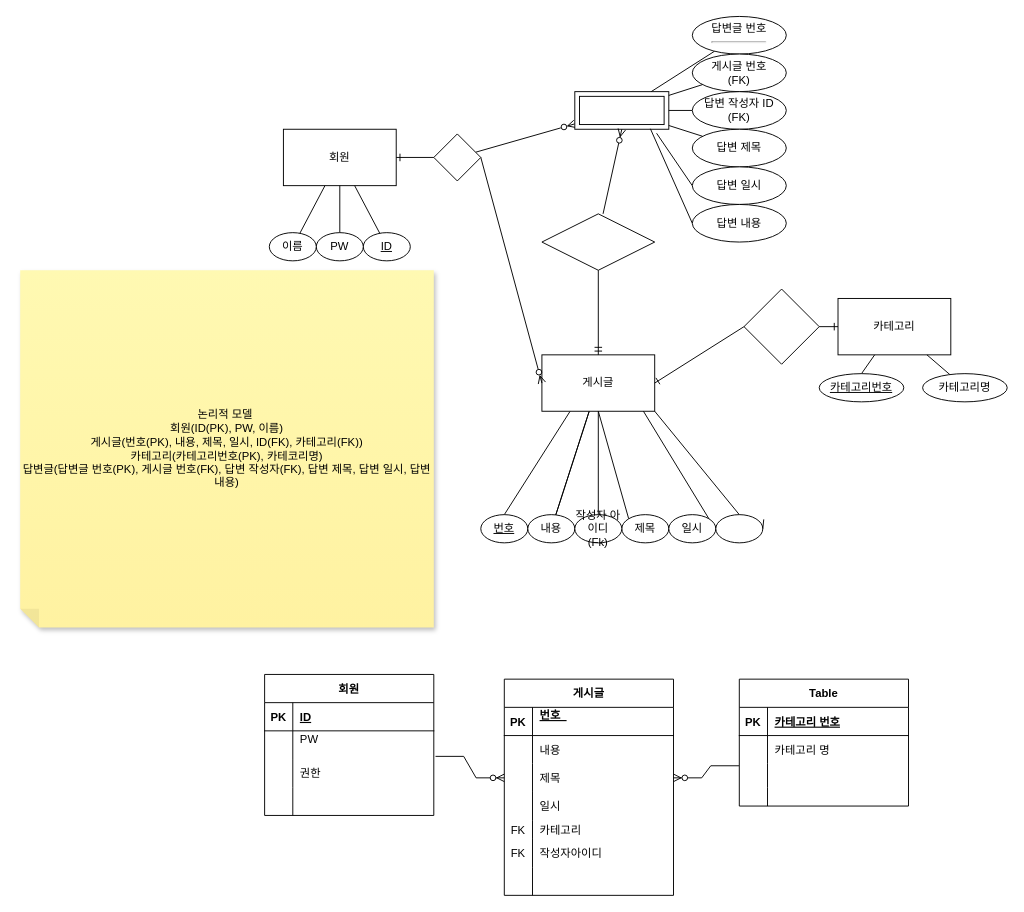
This 1024x912 diagram has some shape labels left out. The shapes that lost their labels are listed below. From the top down, each one's centre as x and y in pixels, then its label:
At point 621,110: "답변글".
At point 457,157: "작성".
At point 598,241: "참조관계".
At point 781,326: "인용".
At point 739,528: "카테고리 (FK)".
